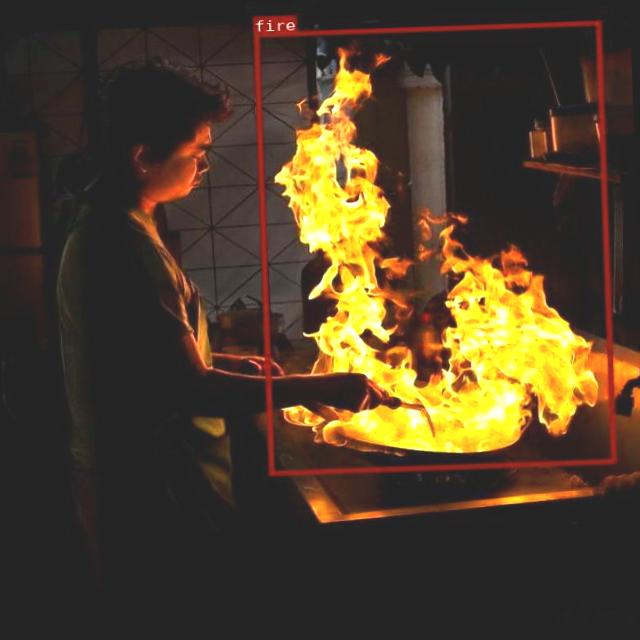fire: (252, 19, 614, 474)
